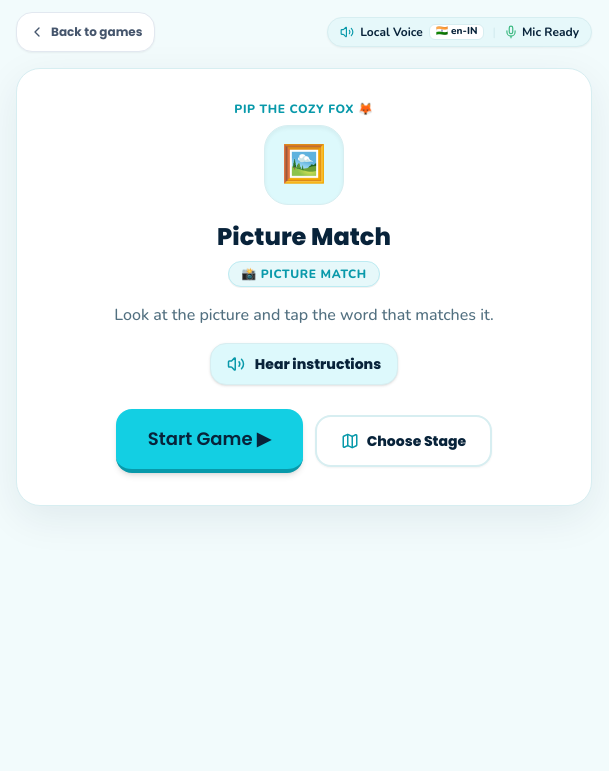
Test: Picture Match Step 2 & 3: Curriculum, Checkpoint & Gameplay Interaction › 17. renders GameProgressionHub on /child/games/picture-word with Picture Match badge and 3 stages
Expected: the element with test id "progression-hub-card" is shown, [16,68,592,506]
Expected: the text "📸 Picture Match" is shown, [228,261,380,287]
Click the button with test id "choose-stage-button" at (403, 441), box [315,415,492,467]
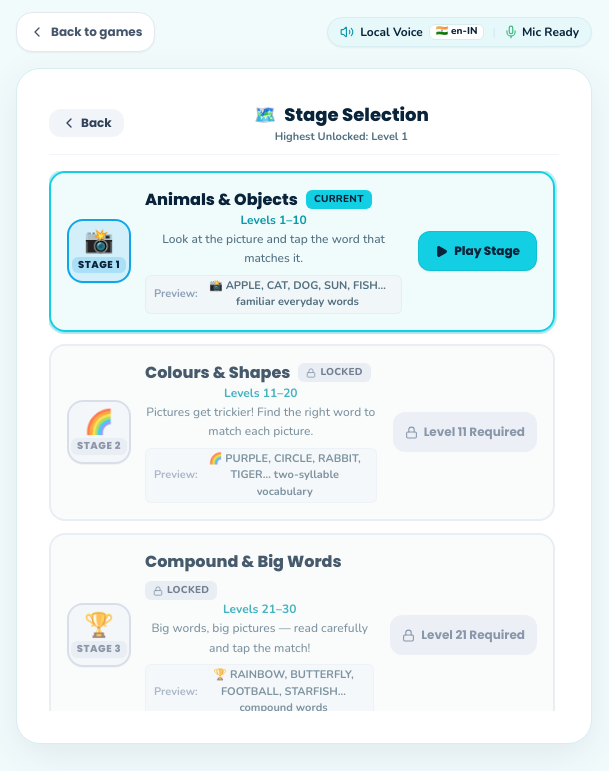
Expected: the element with test id "stages-roadmap-view" is shown
Expected: the element with test id "stage-card-1" is shown, [49,170,555,332]
Expected: the element with test id "stage-card-2" is shown, [49,344,555,521]
